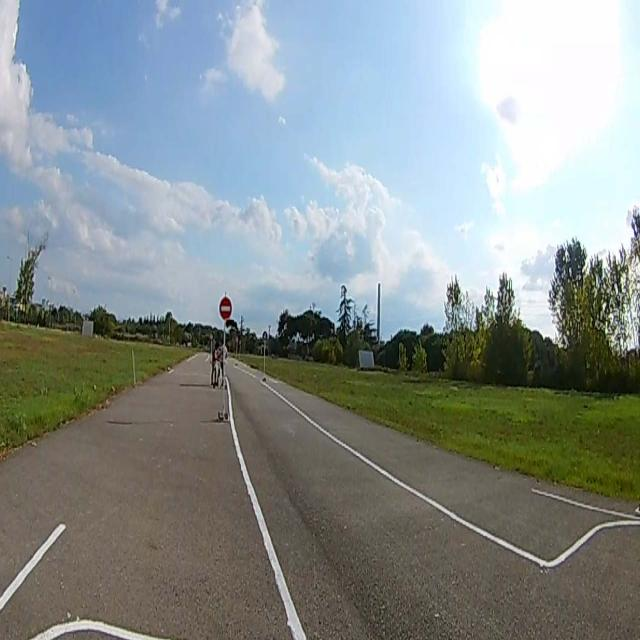girisyok: (218, 296, 232, 320)
